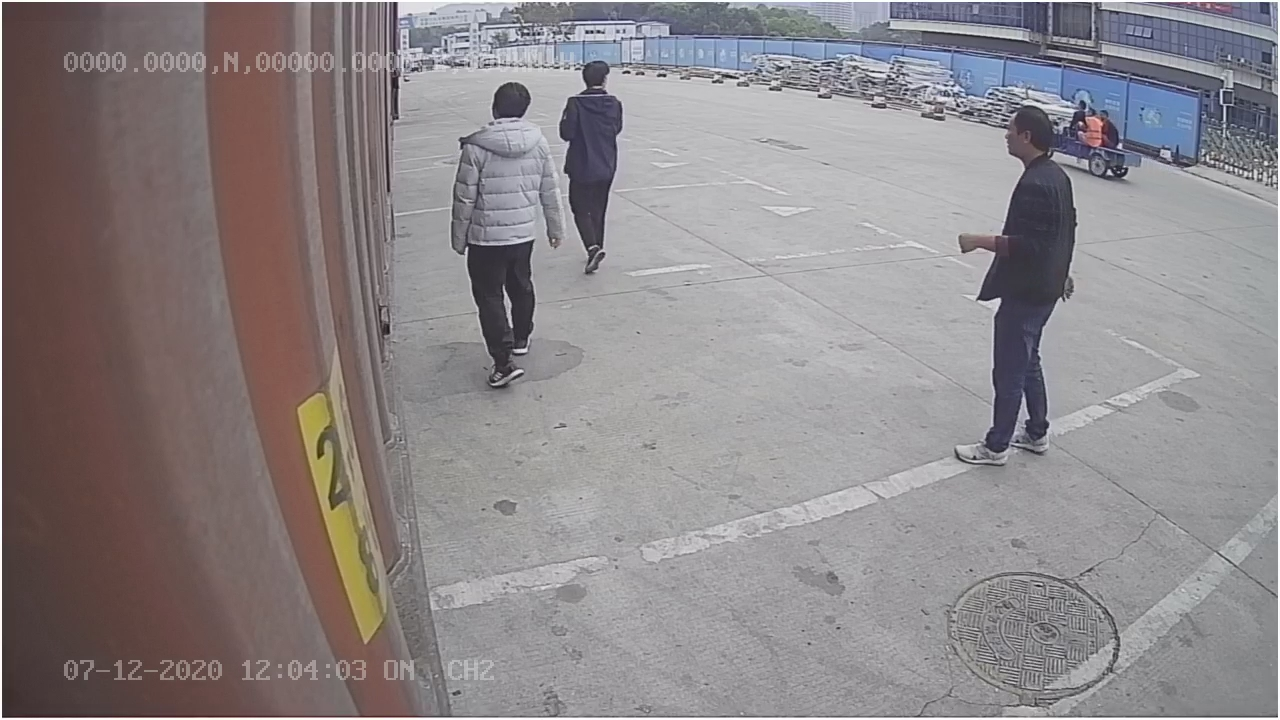person: (952, 100, 1082, 477), (447, 74, 569, 387)
